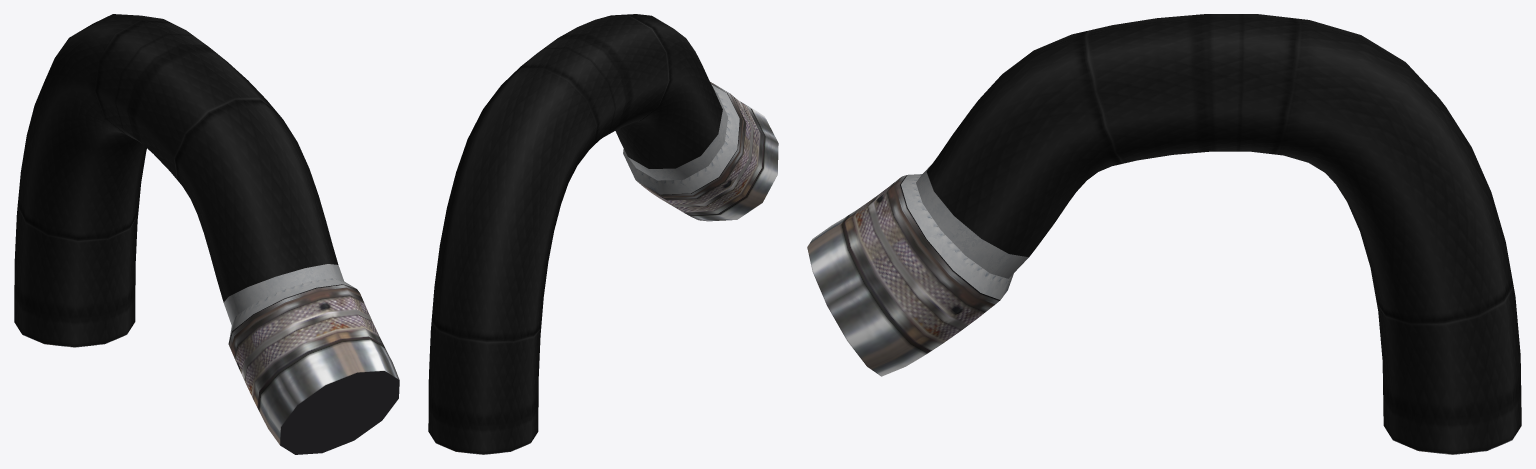
File: SM_Hose10.fbx
3 renders of one model, left to right at view 1: azimuth 30°, elevation 25°; view 2: azimuth 150°, elevation 25°; view 3: azimuth 270°, elevation 25°, orthographic. The views are drawn at different scales.
Visible parts, largest first — view 1: SM_Hose10_LOD0; view 2: SM_Hose10_LOD0; view 3: SM_Hose10_LOD0.
Boxes of the visible parts, x1,y1,x2,y2 form: SM_Hose10_LOD0: (14, 14, 399, 454); SM_Hose10_LOD0: (428, 14, 778, 454); SM_Hose10_LOD0: (807, 14, 1521, 454).
Bounding box in the file's own units: 35 × 155 × 97.18.
